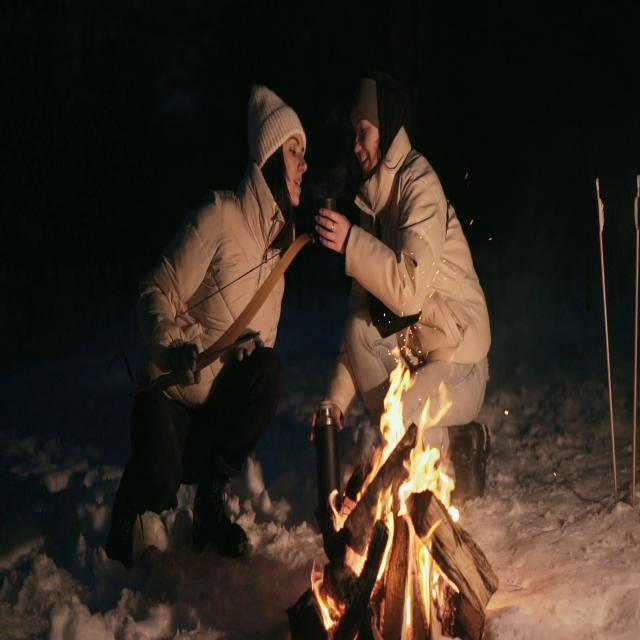Fire: (308, 354, 476, 630)
